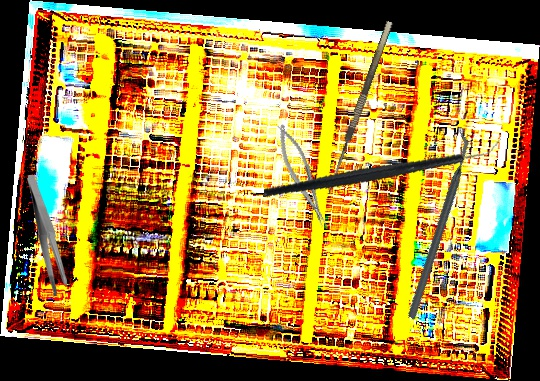Chopper: (346, 129, 529, 321), (263, 99, 501, 236)
Dressing Forceps: (25, 175, 69, 296)
Hook Surgical: (324, 20, 403, 199)
Needle Holder: (271, 120, 332, 232)
